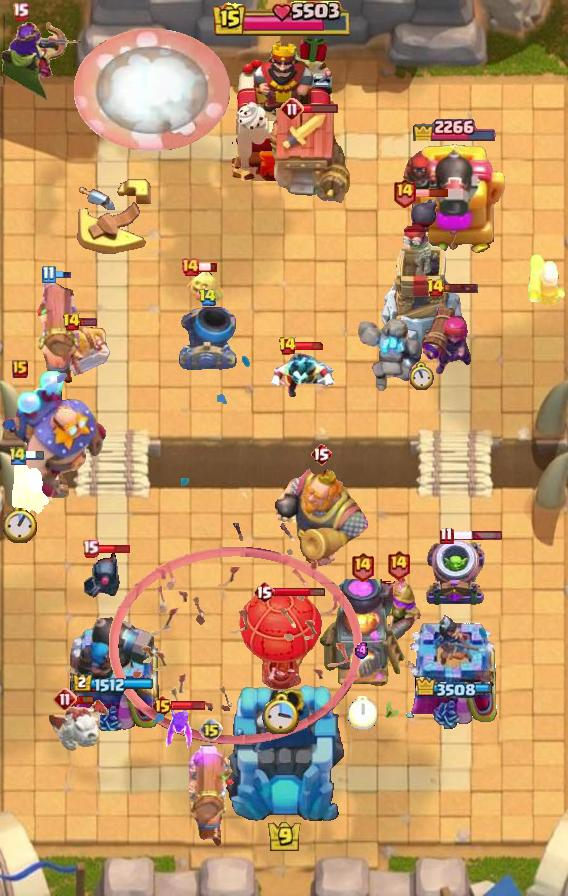barbarian: (163, 705, 193, 749)
barbarian-hut: (0, 15, 88, 101)
bat-evolution: (185, 266, 225, 304)
battle-healer: (34, 271, 82, 385), (188, 745, 234, 849)
battle-ram: (80, 549, 122, 603)
bomb-tower: (370, 575, 426, 653)
cannon-cart: (239, 589, 323, 691)
clock: (213, 1, 355, 39)
electro-spirit: (354, 641, 370, 658)
elixir: (262, 692, 300, 734), (3, 505, 37, 542), (348, 696, 376, 730), (410, 362, 435, 391)
emote: (273, 586, 327, 597), (451, 530, 503, 541), (441, 282, 478, 294), (96, 543, 131, 555), (301, 103, 338, 114), (170, 700, 206, 711), (414, 188, 449, 198), (294, 341, 326, 351), (198, 261, 218, 273), (75, 694, 95, 706), (52, 269, 72, 280), (26, 451, 45, 462), (79, 317, 98, 327)
giant-skeleton: (267, 466, 375, 570)
goblin-cage: (424, 538, 488, 608)
goblin-giant: (57, 324, 110, 376)
hunter: (318, 579, 406, 689)
king-tower: (221, 682, 347, 826), (232, 39, 336, 181)
little-prince: (0, 368, 108, 502)
lumberjack: (266, 345, 340, 403)
mega-minion: (420, 290, 474, 378)
mini-pekka: (47, 697, 113, 753)
musketeer: (177, 306, 237, 370)
queen-tower: (406, 614, 503, 730)
selected: (410, 112, 496, 140), (73, 673, 155, 695), (414, 677, 492, 699)
skeleton-barrel: (109, 522, 363, 745)
sparky: (264, 107, 350, 205)
text: (392, 177, 417, 208), (385, 548, 410, 579), (350, 550, 375, 581), (280, 97, 304, 121), (53, 687, 77, 711), (199, 718, 223, 742), (150, 694, 173, 718), (310, 442, 332, 466), (253, 580, 275, 604), (8, 446, 28, 467), (180, 257, 200, 277), (427, 278, 446, 298), (63, 312, 82, 332), (278, 336, 297, 356), (198, 288, 217, 307), (11, 3, 28, 21), (82, 539, 99, 557), (12, 360, 28, 378), (438, 526, 453, 545), (41, 265, 55, 284)
tombstone: (526, 251, 568, 309), (10, 458, 52, 516)
tower-bar: (399, 138, 507, 256), (68, 611, 160, 731)
valkyrie-evolution: (354, 316, 428, 398)
wall-breaker: (74, 29, 231, 151)
zappy: (379, 193, 466, 351)
